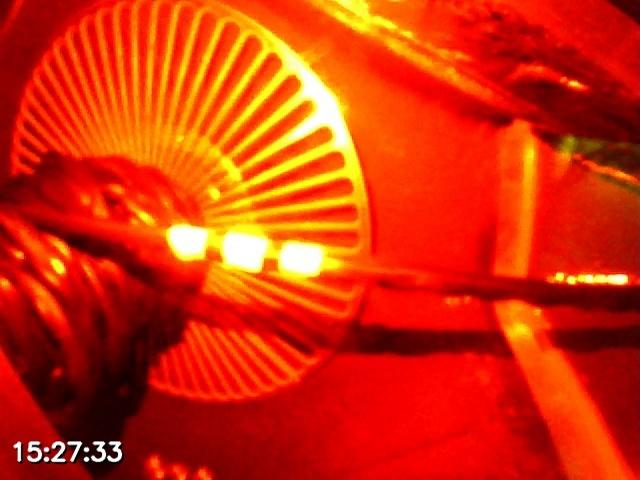white-dots: (165, 223, 326, 279)
